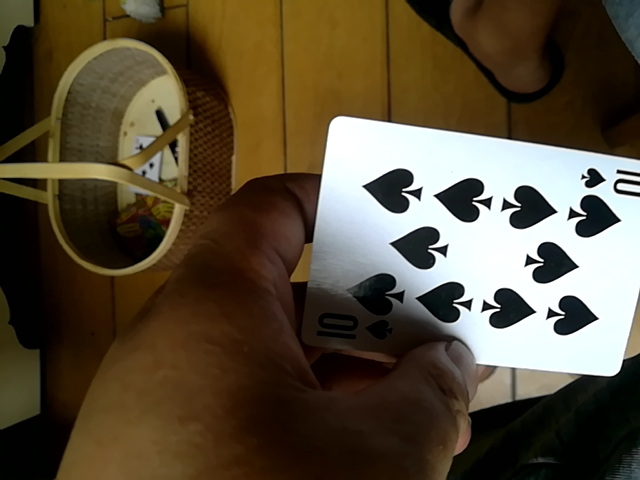ht 10: (311, 116, 640, 381)
